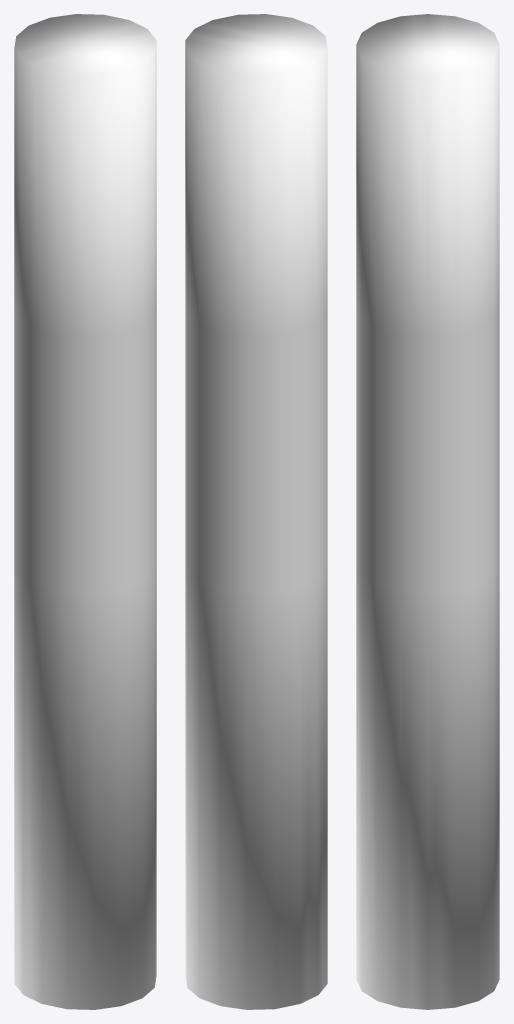
The model's file is TroncoCaido.fbx.
3 views of the same model, side by side, from view 1: azimuth 30°, elevation 25°; view 2: azimuth 150°, elevation 25°; view 3: azimuth 270°, elevation 25° (orthographic).
Parts seen in each view (by area): view 1: Tronco; view 2: Tronco; view 3: Tronco.
Part boxes in pixels (box(x1,y1,x2,y2)): Tronco: box(14, 14, 156, 1009); Tronco: box(185, 14, 327, 1009); Tronco: box(356, 14, 499, 1009).
Size of the model in its own units: 1060 by 7634 by 1060.
